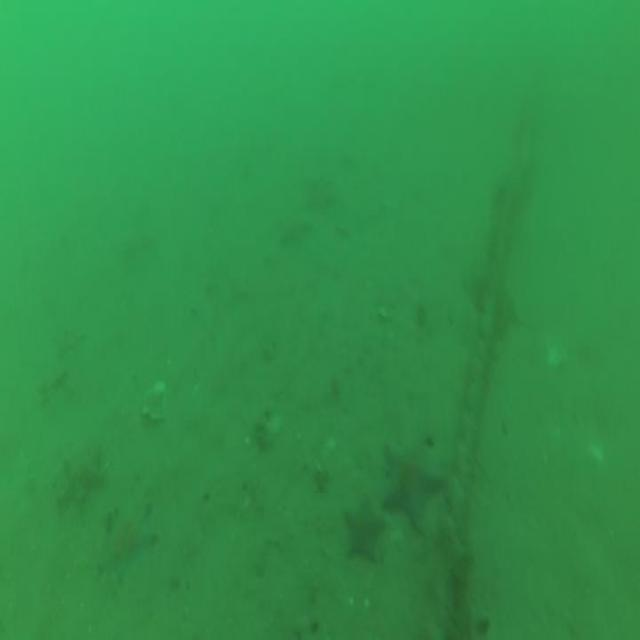starfish: (382, 432, 446, 540), (95, 507, 156, 588), (57, 446, 106, 510), (340, 498, 384, 561)
